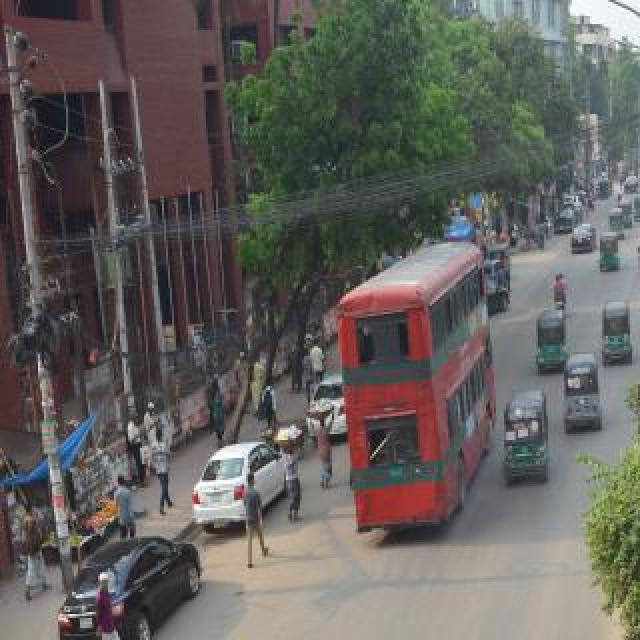bus: (336, 160, 490, 542)
car: (42, 474, 210, 640), (178, 392, 296, 602), (292, 346, 348, 448), (544, 194, 580, 232), (571, 222, 599, 254), (616, 180, 640, 198), (638, 212, 640, 240)
motorbike: (543, 272, 581, 316), (632, 244, 640, 276)
